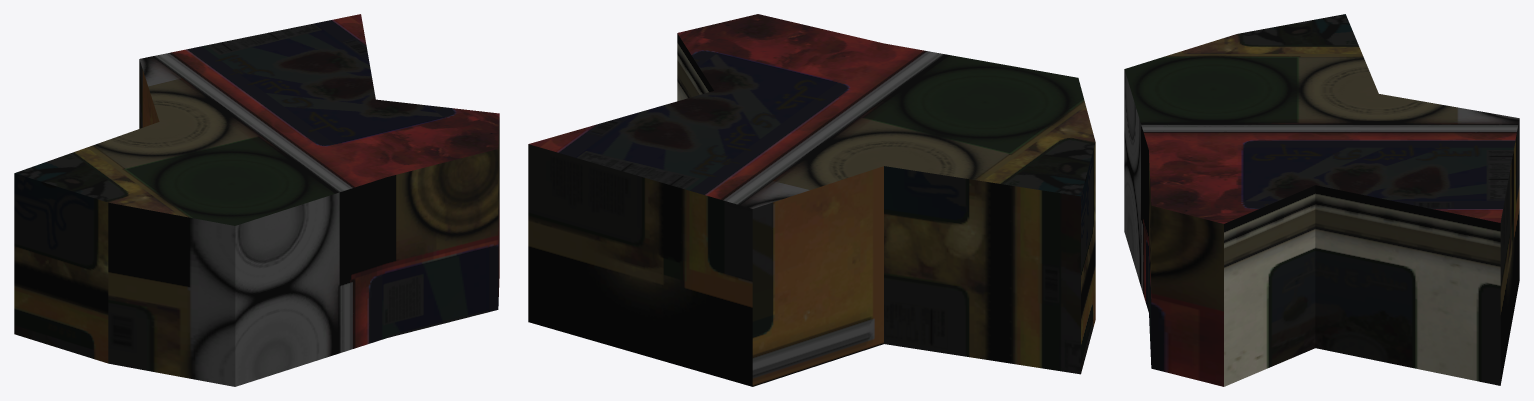
Rendered from p6_pak_food_jar_stack_05_lod2.glb.
3 renders of one model, left to right at view 1: azimuth 30°, elevation 25°; view 2: azimuth 150°, elevation 25°; view 3: azimuth 270°, elevation 25°, orthographic. The views are drawn at different scales.
Visible parts, largest first — view 1: surf0; view 2: surf0; view 3: surf0.
Boxes of the visible parts, bbox=[...] form: surf0: bbox=[14, 14, 499, 386]; surf0: bbox=[528, 14, 1095, 386]; surf0: bbox=[1124, 14, 1519, 386].
Size of the model in its own units: 18.28 by 6.61 by 14.53.
